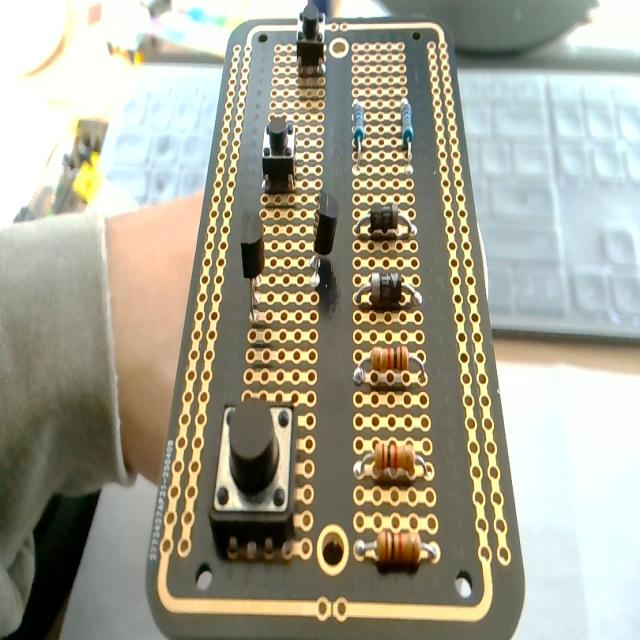diode: (355, 270, 422, 310), (354, 203, 416, 237)
resistor: (350, 519, 436, 574), (354, 349, 426, 389), (356, 443, 428, 481), (395, 91, 419, 169), (352, 100, 365, 175)
switch: (208, 398, 300, 558), (262, 116, 296, 193), (294, 2, 326, 77)
transistor: (307, 191, 340, 294), (240, 212, 265, 323)
